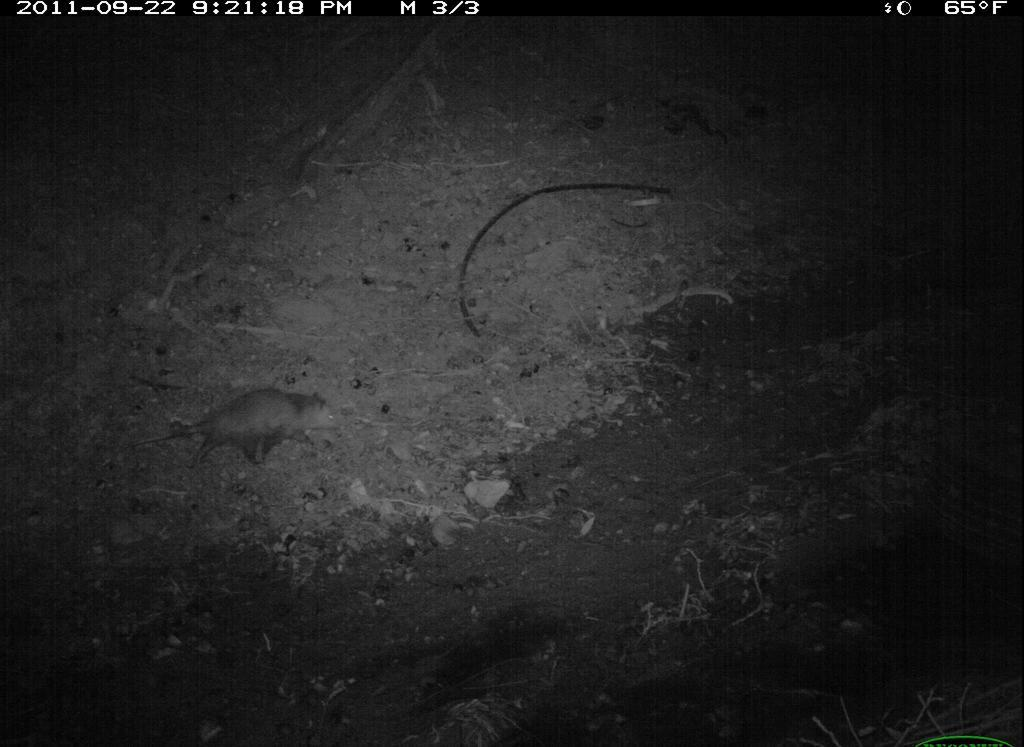opossum: (127, 387, 346, 477)
